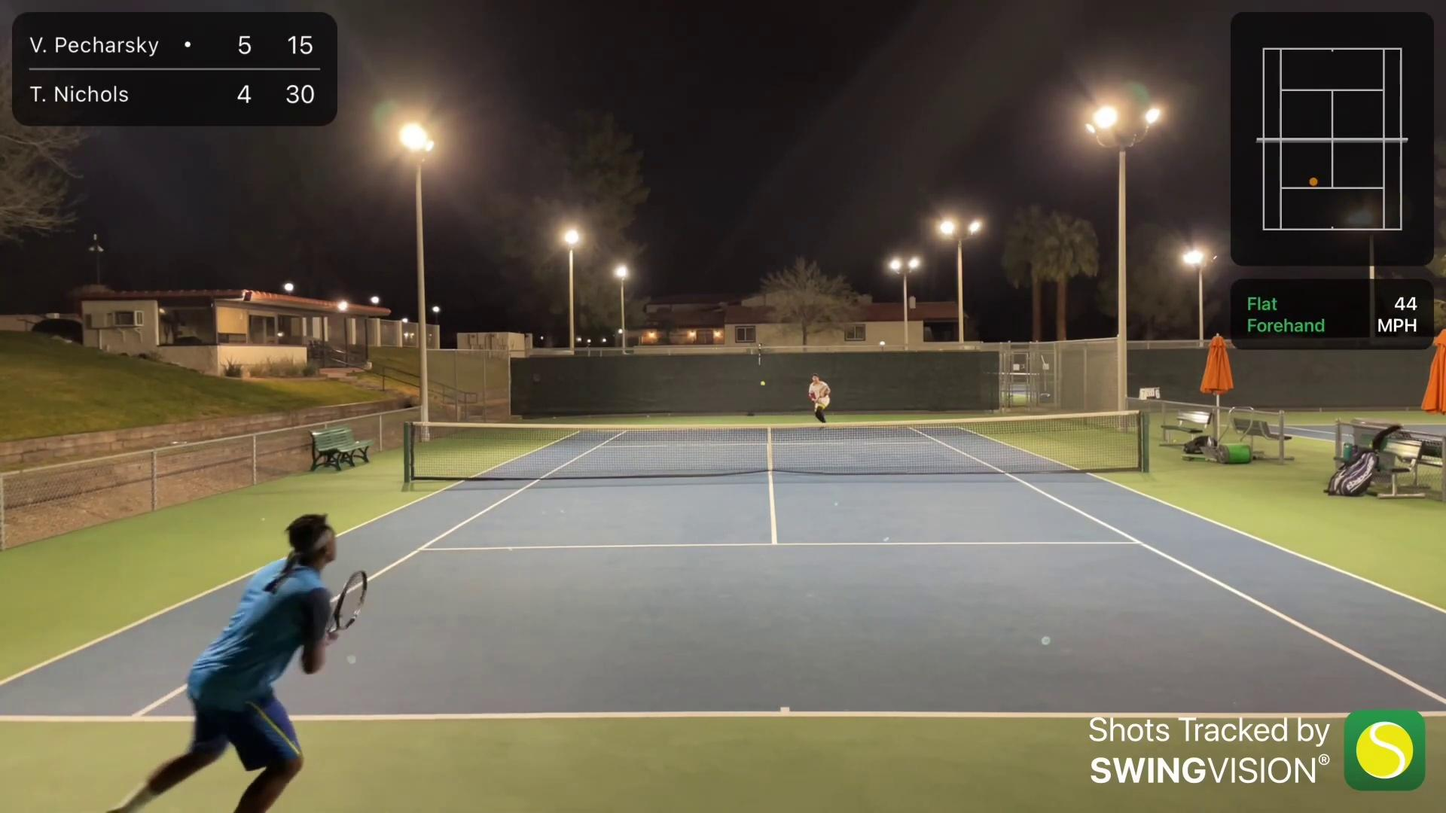ball: (760, 381, 767, 388)
